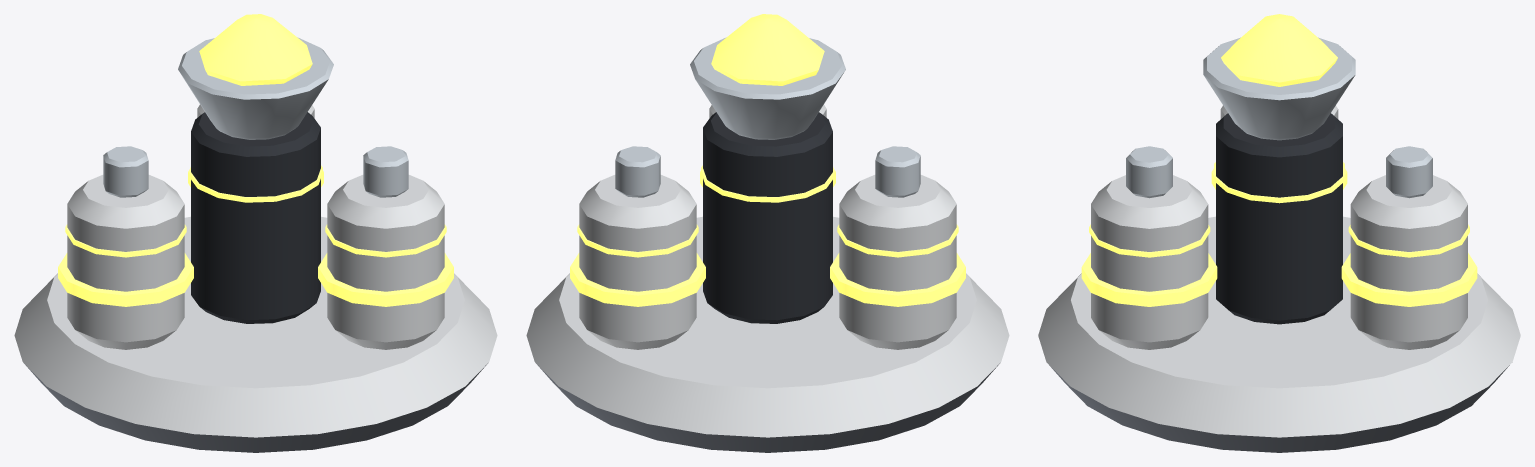
The model's file is R4D_BurnTrap.fbx.
3 renders of one model, left to right at view 1: azimuth 30°, elevation 25°; view 2: azimuth 150°, elevation 25°; view 3: azimuth 270°, elevation 25°, orthographic.
Parts seen in each view (by area): view 1: R4D_BurnTrap_Body, R4D_BurnTrap_Flame; view 2: R4D_BurnTrap_Body, R4D_BurnTrap_Flame; view 3: R4D_BurnTrap_Body, R4D_BurnTrap_Flame.
Part boxes in pixels (x1,y1,x2,y2): R4D_BurnTrap_Body: [14, 37, 497, 452]; R4D_BurnTrap_Flame: [199, 14, 312, 85]; R4D_BurnTrap_Body: [526, 37, 1009, 452]; R4D_BurnTrap_Flame: [711, 14, 824, 85]; R4D_BurnTrap_Body: [1038, 37, 1520, 452]; R4D_BurnTrap_Flame: [1221, 14, 1337, 86].
Bounding box in the file's own units: 0.37 × 0.288 × 0.37.
